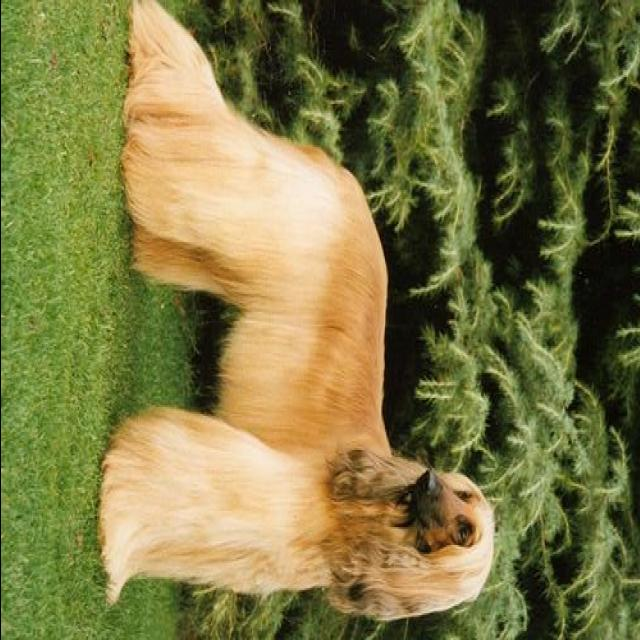afghan_hound: (99, 4, 492, 620)
